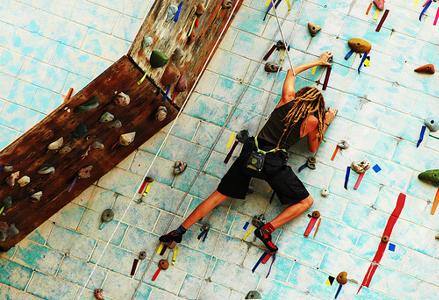person: (156, 52, 339, 254)
